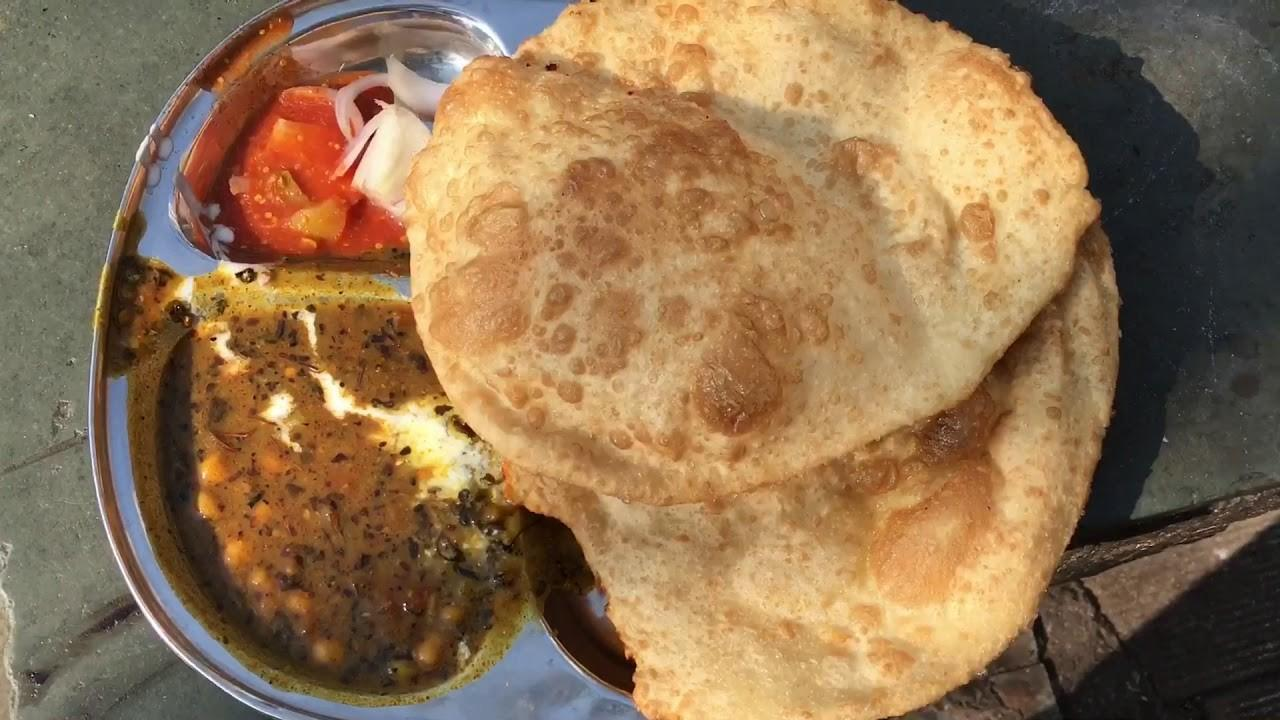Bhatura: (412, 0, 1122, 718)
